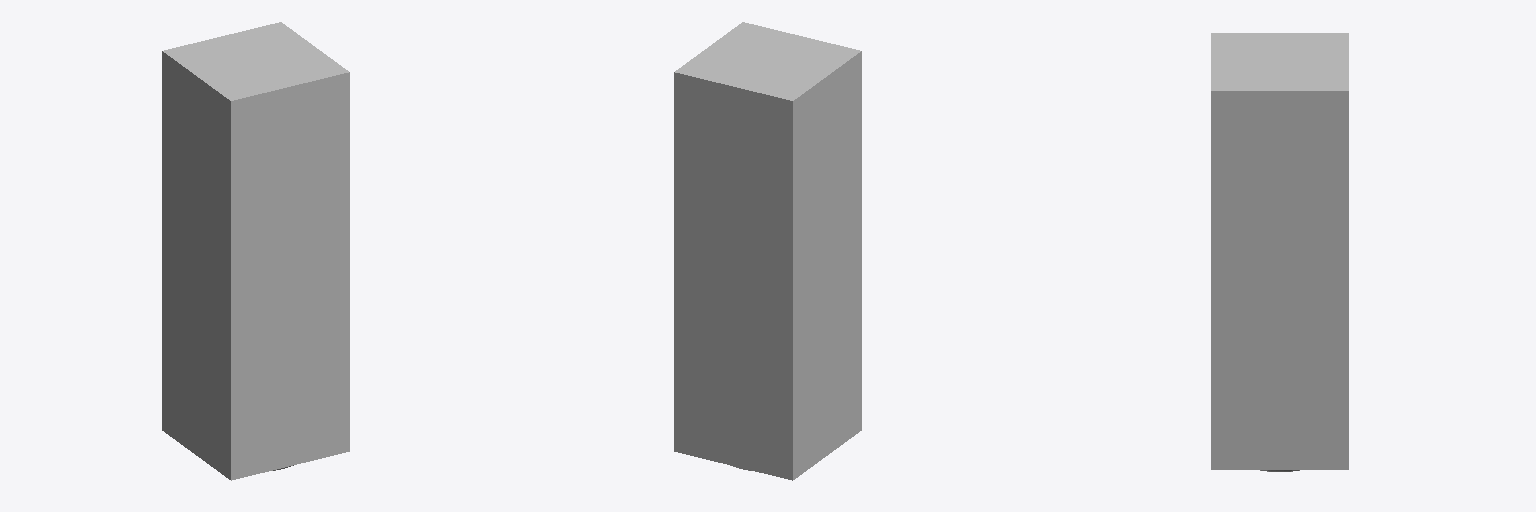
File: objeto_3d.obj
3 renders of one model, left to right at view 1: azimuth 30°, elevation 25°; view 2: azimuth 150°, elevation 25°; view 3: azimuth 270°, elevation 25°, orthographic.
Parts seen in each view (by area): view 1: Collider; view 2: Collider; view 3: Collider.
Part boxes in pixels (x1,y1,x2,y2): Collider: (162, 22, 349, 480); Collider: (674, 22, 861, 480); Collider: (1211, 33, 1348, 469).
Size of the model in its own units: 2 by 6.25 by 2.